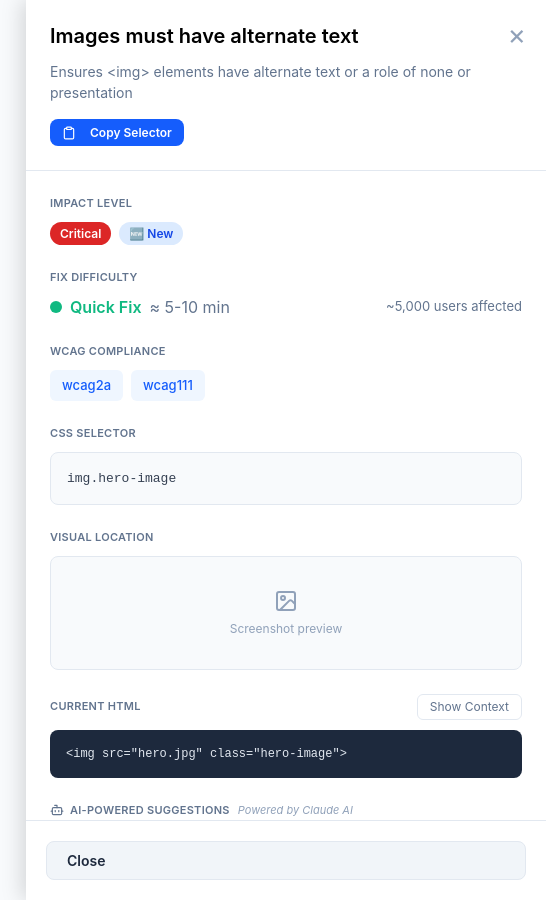
Test: components/findings/FindingDetails › FindingDetails › toggles HTML context visibility when Show/Hide Context is clicked
Click the button "Show Context" at (469,706), box [417,694,522,720]
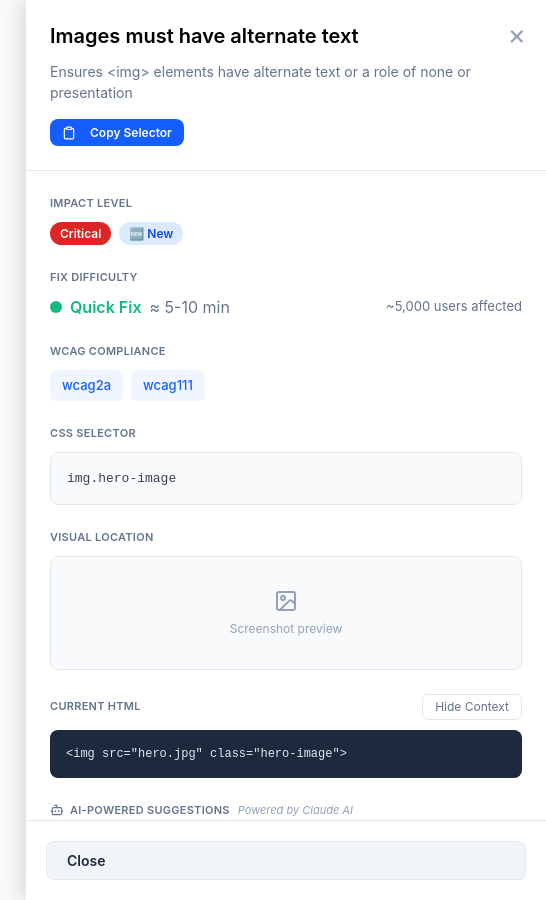
Now the button "Hide Context" is shown
Click the button "Hide Context" at (472,706), box [422,694,522,720]
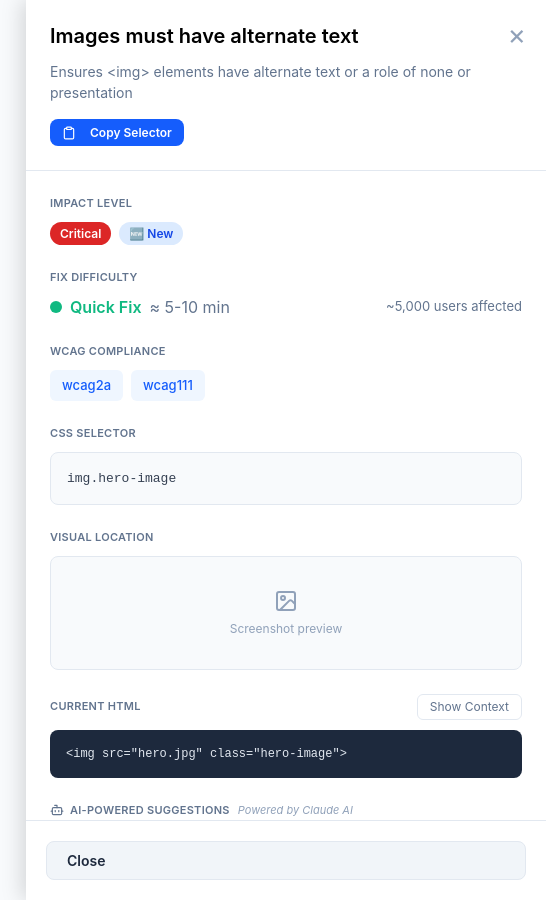
Now the button "Show Context" is shown, box [417,694,522,720]
